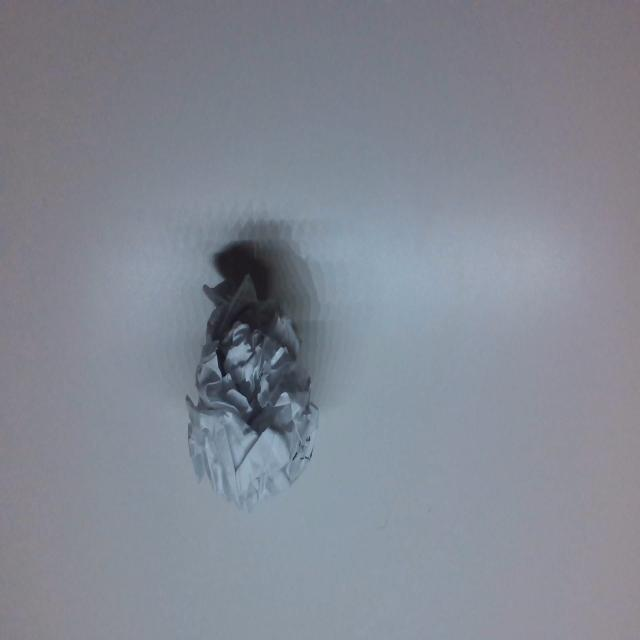Paper: (193, 247, 305, 506)
